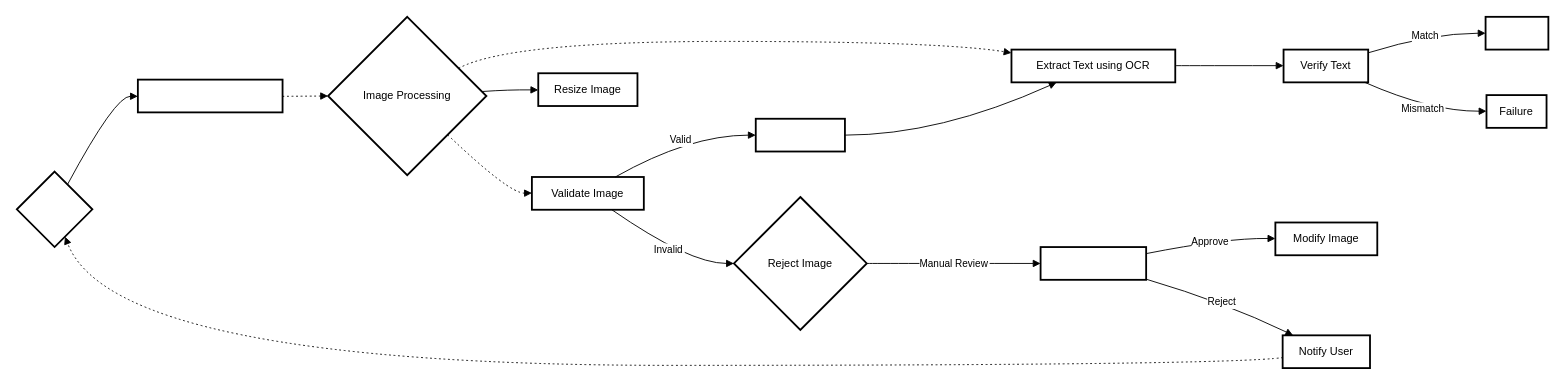
This 1564x384 diagram has some shape labels left out. Each missing label, with the centre of its shape:
Review Image: (1093,263)
Save Image: (799,134)
Success: (1516,32)
Upload OHRC Image: (209,95)
User: (54,209)
